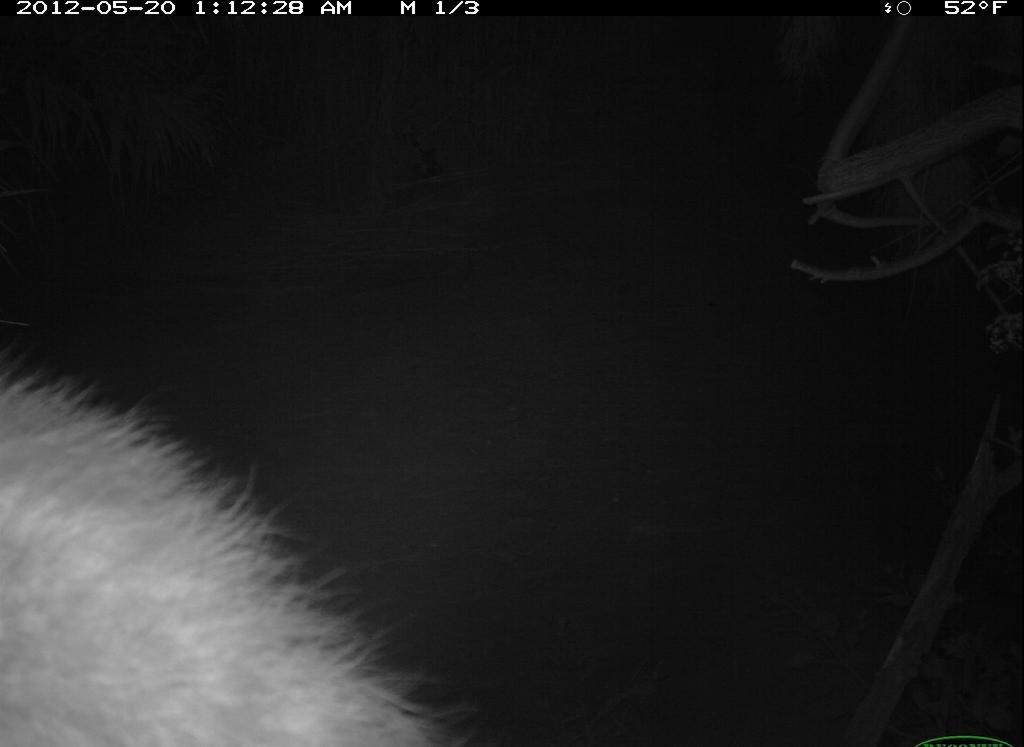raccoon: (1, 342, 496, 747)
